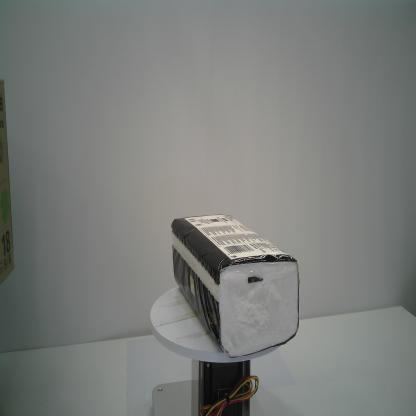Tissue: (172, 214, 299, 358)
